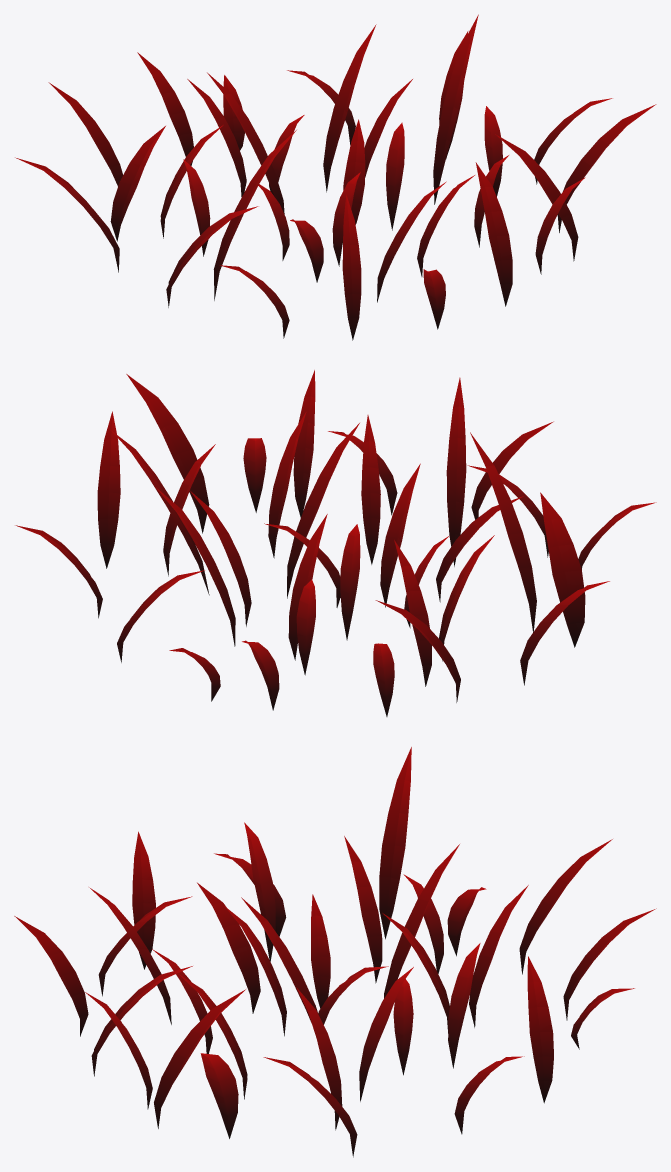
File: ShortGrass.fbx
3 views of the same model, one above another, from view 1: azimuth 30°, elevation 25°; view 2: azimuth 150°, elevation 25°; view 3: azimuth 270°, elevation 25° (orthographic). The views are drawn at different scales.
Parts seen in each view (by area): view 1: Grass; view 2: Grass; view 3: Grass.
Boxes of the visible parts, x1,y1,x2,y2 form: Grass: (15,14,656,340); Grass: (15,370,656,716); Grass: (14,747,656,1157).
Bounding box in the file's own units: 75.81 × 21.94 × 69.72.
